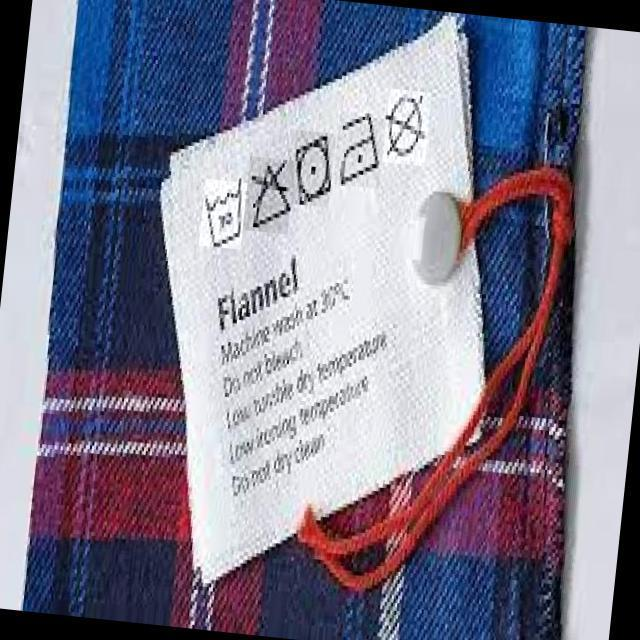30C: (201, 173, 245, 250)
DN_bleach: (254, 156, 287, 231)
DN_dry_clean: (384, 93, 432, 163)
iron_low: (340, 109, 381, 185)
tumble_dry_low: (294, 129, 336, 205)
